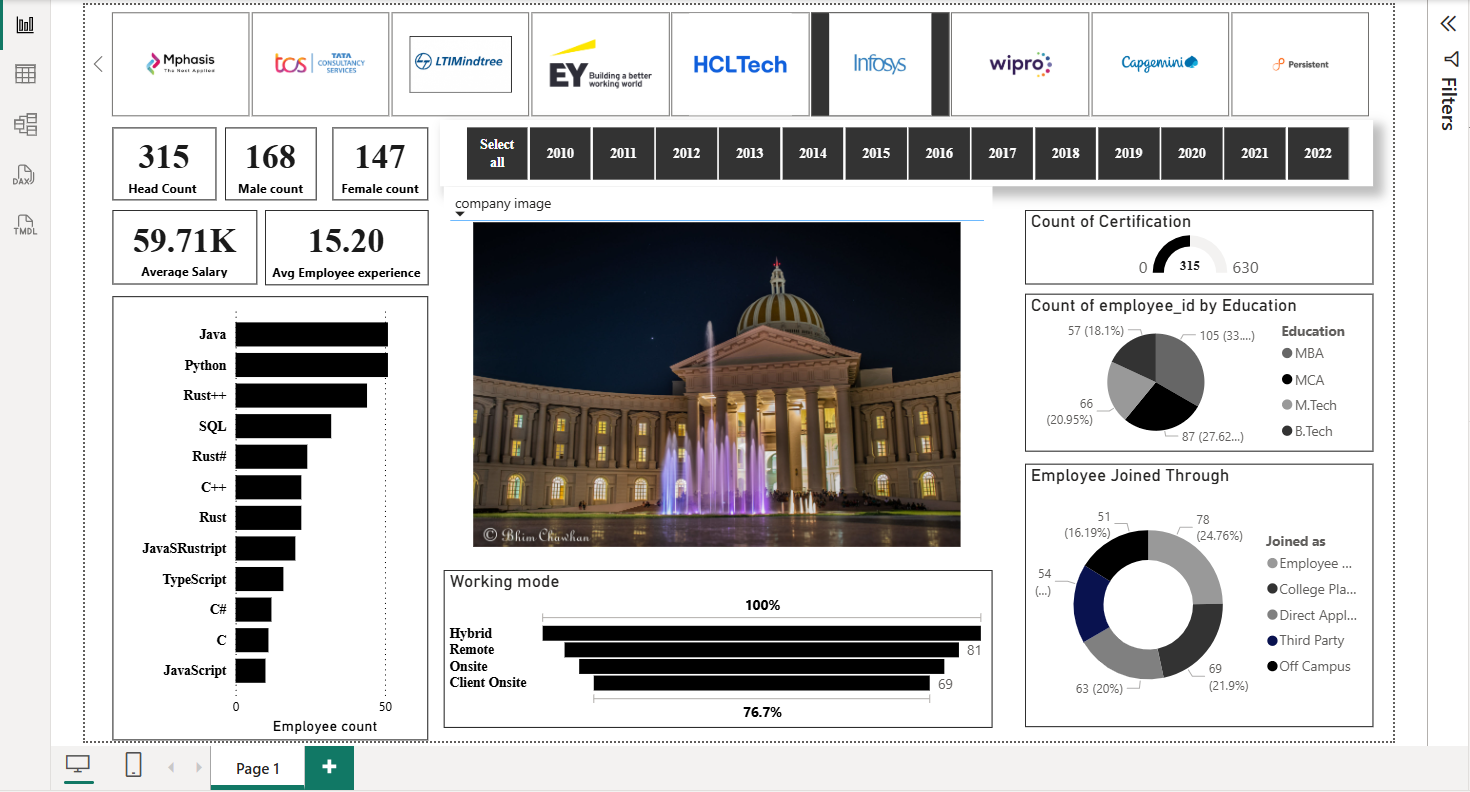

Layout of this report page (visuals, bound fields, positions):
{"tool":"powerbi","page":{"name":"Page 1","canvas":[1280,720],"ordinal":0},"visuals":[{"type":"card","fields":{"Values":["data.employee_salary"]},"box":[26.4,200.8,141.4,72.7],"z":0},{"type":"card","fields":{"Values":["data.employee_id"]},"box":[26.4,120.2,101.7,71.3],"z":1000},{"type":"card","fields":{"Values":["data.Male count"]},"box":[137.4,120.2,89.8,71.3],"z":2000},{"type":"card","fields":{"Values":["data.Female count"]},"box":[241.8,120.2,93.8,71.3],"z":3000},{"type":"card","fields":{"Values":["data.employee_experience_years"]},"box":[175.7,200.8,159.9,74],"z":4000},{"type":"slicer","fields":{"Values":["logo_table.company logo"]},"box":[0,0,1280.3,112.3],"z":5000},{"type":"barChart","fields":{"Category":["data.Programming language known"],"Y":["data.employee_id"]},"box":[26.4,285.4,309.2,434.7],"z":6000},{"type":"slicer","fields":{"Values":["data.jOINING_YEAR"]},"box":[347.5,112.3,913,65],"z":7000},{"type":"funnel","title":"Working mode","fields":{"Category":["data.Working mode"],"Y":["data.Company name"]},"box":[351.4,535.1,536.4,171.8],"z":8000},{"type":"donutChart","title":"Employee Joined Through","fields":{"Category":["data.Joined as"],"Y":["data.employee_id"]},"box":[919.6,449.2,340.9,257.6],"z":9000},{"type":"pieChart","fields":{"Category":["data.Education "],"Y":["data.employee_id"]},"box":[919.6,282.7,340.9,154.6],"z":10000},{"type":"gauge","title":"Count of Certification ","fields":{"Y":["data.Certification "]},"box":[919.6,200.8,340.9,72.7],"z":11000},{"type":"tableEx","fields":{"Values":["com_image.company image"]},"box":[351.4,191.6,536.4,329],"z":12000}]}

Visuals, with their boxes on the page's 1280x720 design canvas (x1, y1, x2, y2). These are canvas units, not pixel positions in the 1470x792 screenshot, which may show the page scaled, cropped or inside an application window:
card - data.employee_salary: {"left": 26, "top": 201, "right": 168, "bottom": 274}
card - data.employee_id: {"left": 26, "top": 120, "right": 128, "bottom": 192}
card - data.Male count: {"left": 137, "top": 120, "right": 227, "bottom": 192}
card - data.Female count: {"left": 242, "top": 120, "right": 336, "bottom": 192}
card - data.employee_experience_years: {"left": 176, "top": 201, "right": 336, "bottom": 275}
slicer - logo_table.company logo: {"left": 0, "top": 0, "right": 1280, "bottom": 112}
barChart - data.Programming language known x data.employee_id: {"left": 26, "top": 285, "right": 336, "bottom": 720}
slicer - data.jOINING_YEAR: {"left": 348, "top": 112, "right": 1260, "bottom": 177}
"Working mode" funnel: {"left": 351, "top": 535, "right": 888, "bottom": 707}
"Employee Joined Through" donutChart: {"left": 920, "top": 449, "right": 1260, "bottom": 707}
pieChart - data.Education  x data.employee_id: {"left": 920, "top": 283, "right": 1260, "bottom": 437}
"Count of Certification " gauge: {"left": 920, "top": 201, "right": 1260, "bottom": 274}
tableEx - com_image.company image: {"left": 351, "top": 192, "right": 888, "bottom": 521}
